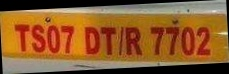character: (124, 25, 142, 56), (99, 25, 116, 56), (13, 22, 30, 52), (84, 25, 100, 55), (164, 25, 179, 56), (31, 22, 46, 52), (59, 23, 74, 53), (149, 25, 164, 55), (196, 26, 211, 56), (45, 24, 60, 53), (180, 25, 194, 55)
